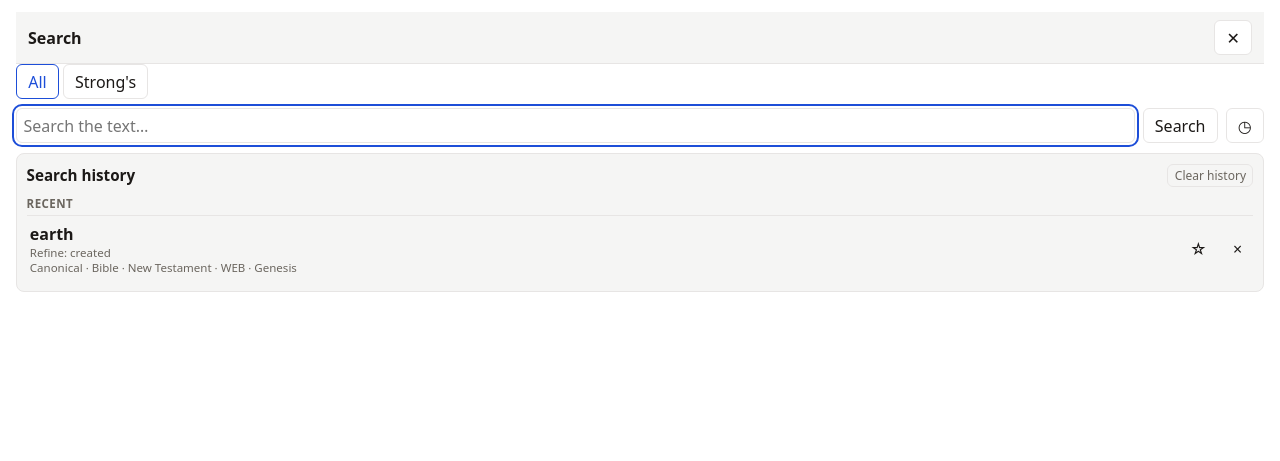
it: SearchPanel › restores query, refinement, filters, ordering, and group from history
Click the button with aria-label "Run search earth again" at (52,234), box 27,216 -> 1175,281
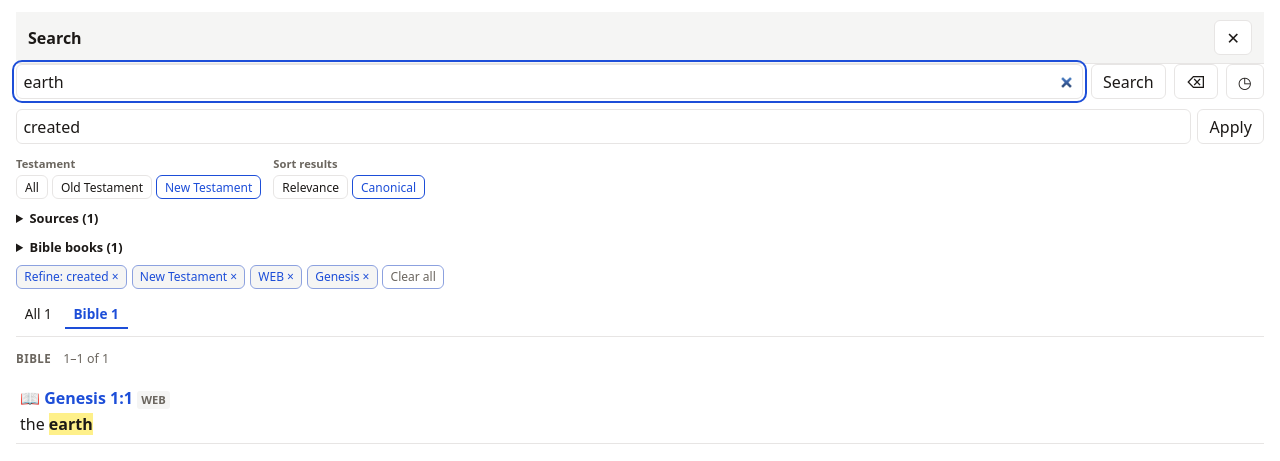
Result: the search field with placeholder "Search the text…" holds "earth" at 16,64 -> 1083,99
Result: the search field with placeholder "Refine these results…" holds "created" at 16,109 -> 1191,144
